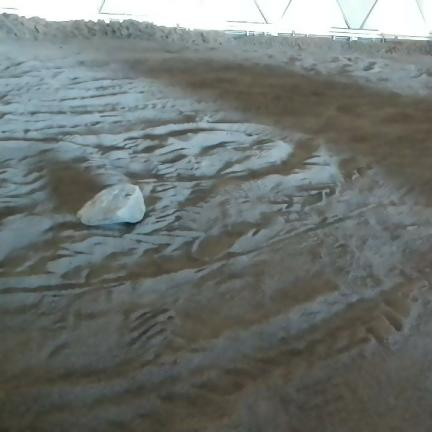Rock: (77, 184, 145, 225)
